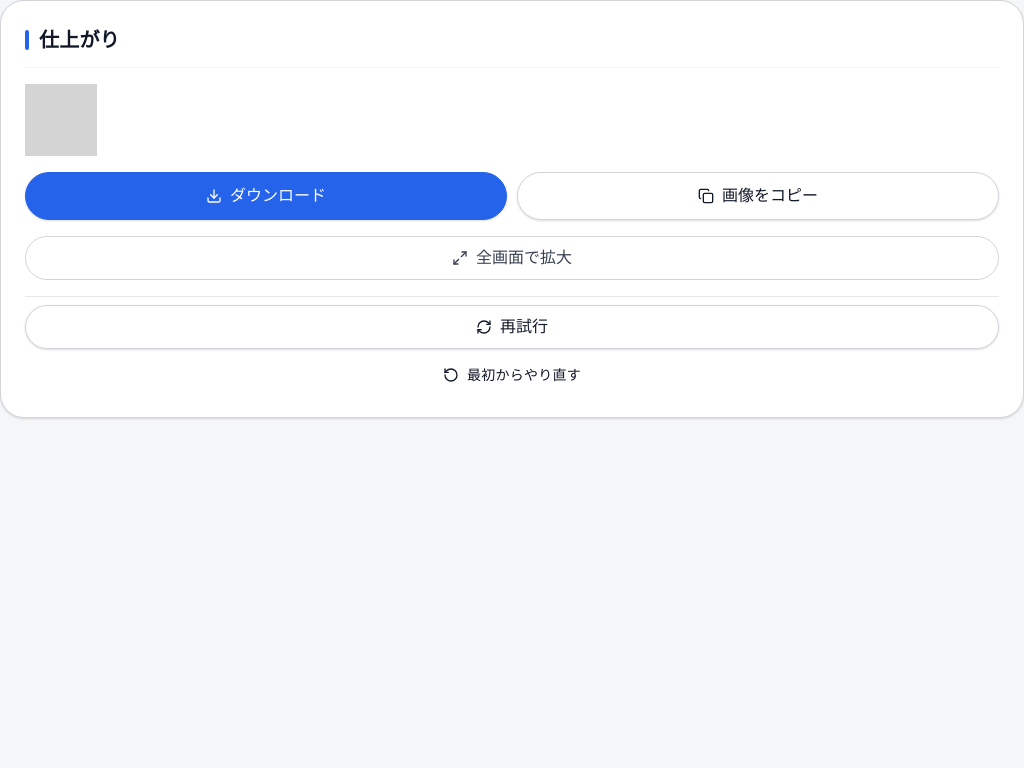
ResultPane › opens lightbox on expand click and closes on Escape
This screenshot has width=1024, height=768.
Click the button "全画面で拡大". click: (512, 258)
box: 25,236 -> 999,280
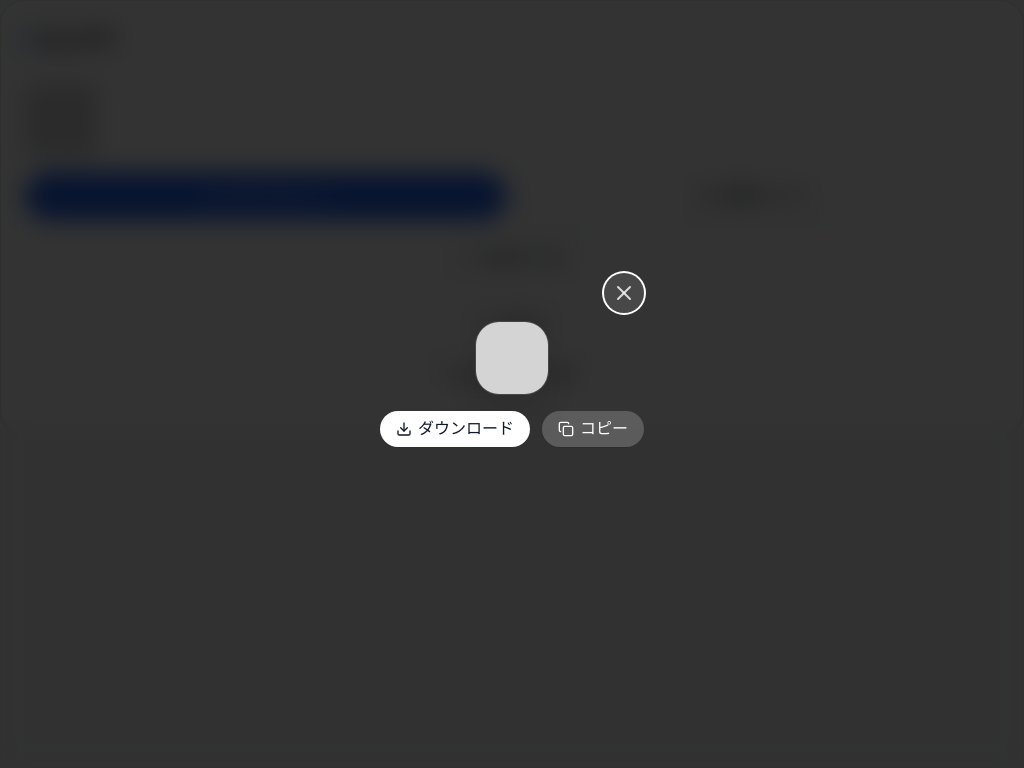
Expected: the dialog named "生成画像の拡大表示" is shown
Press Escape
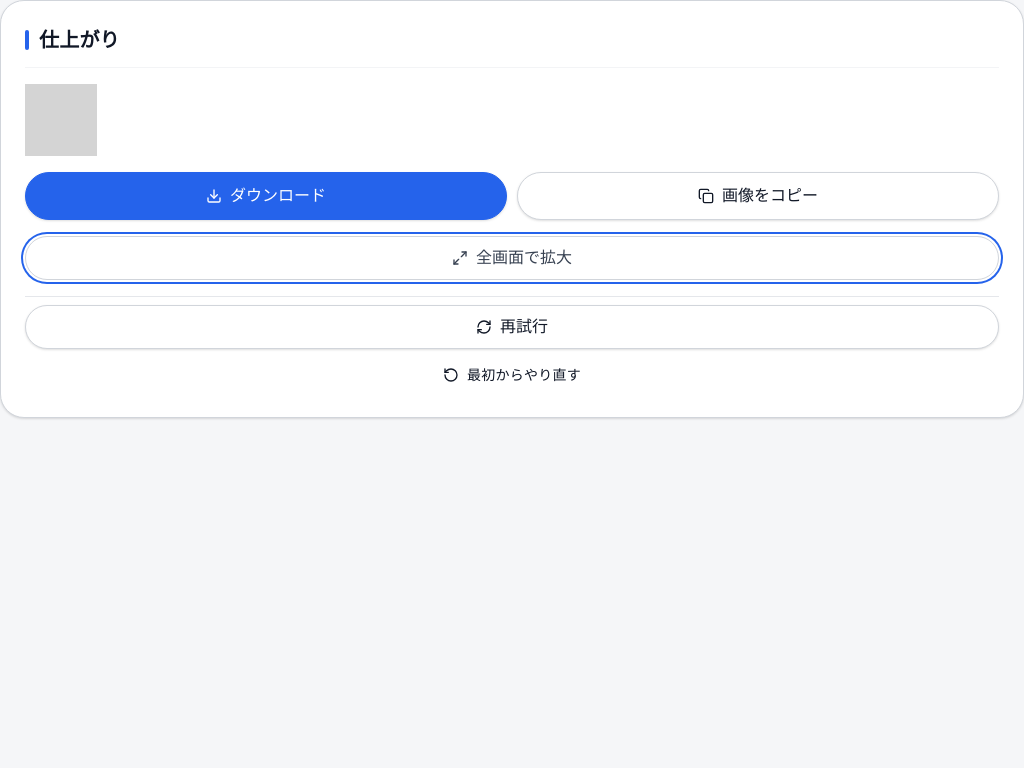
Expected: the dialog "生成画像の拡大表示" is gone
